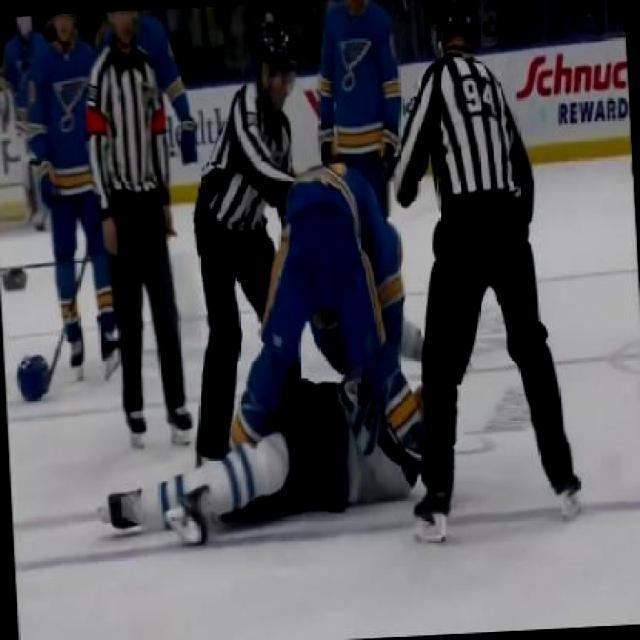fight: (218, 152, 432, 528)
non-fight: (395, 0, 578, 532), (77, 7, 197, 458), (23, 9, 132, 388)
